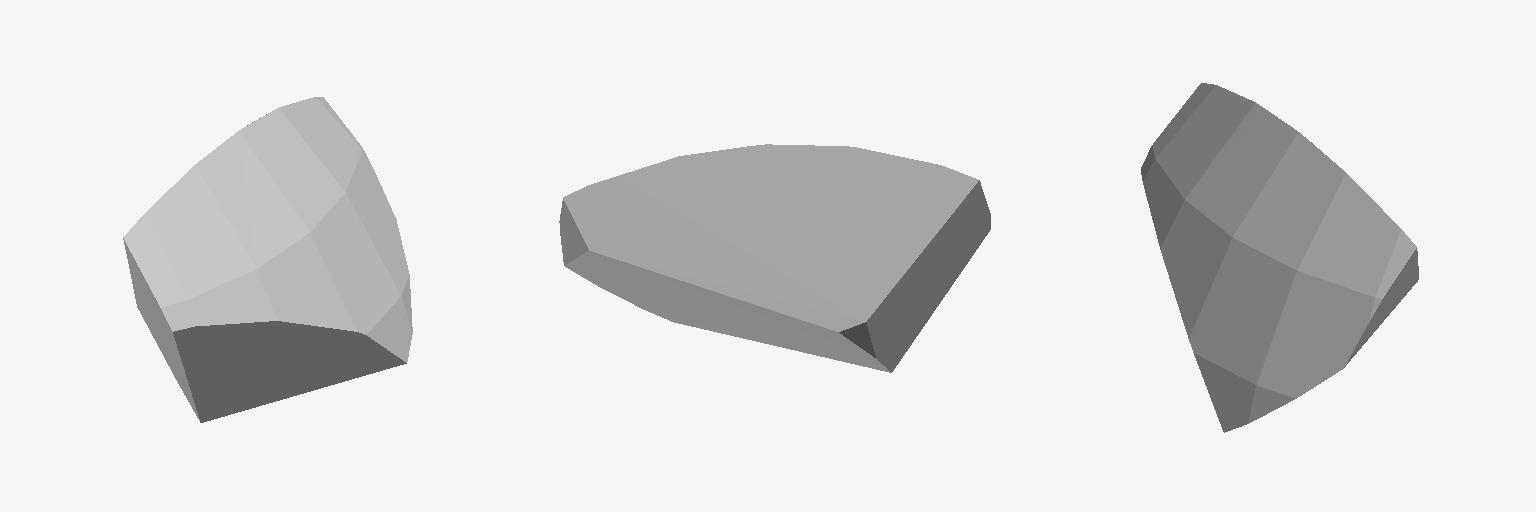
The model's file is Sphere_Cell_Fracture26.obj.
3 views of the same model, side by side, from view 1: azimuth 30°, elevation 25°; view 2: azimuth 150°, elevation 25°; view 3: azimuth 270°, elevation 25° (orthographic).
Bounding box in the file's own units: 0.6395 × 0.4271 × 0.4482.